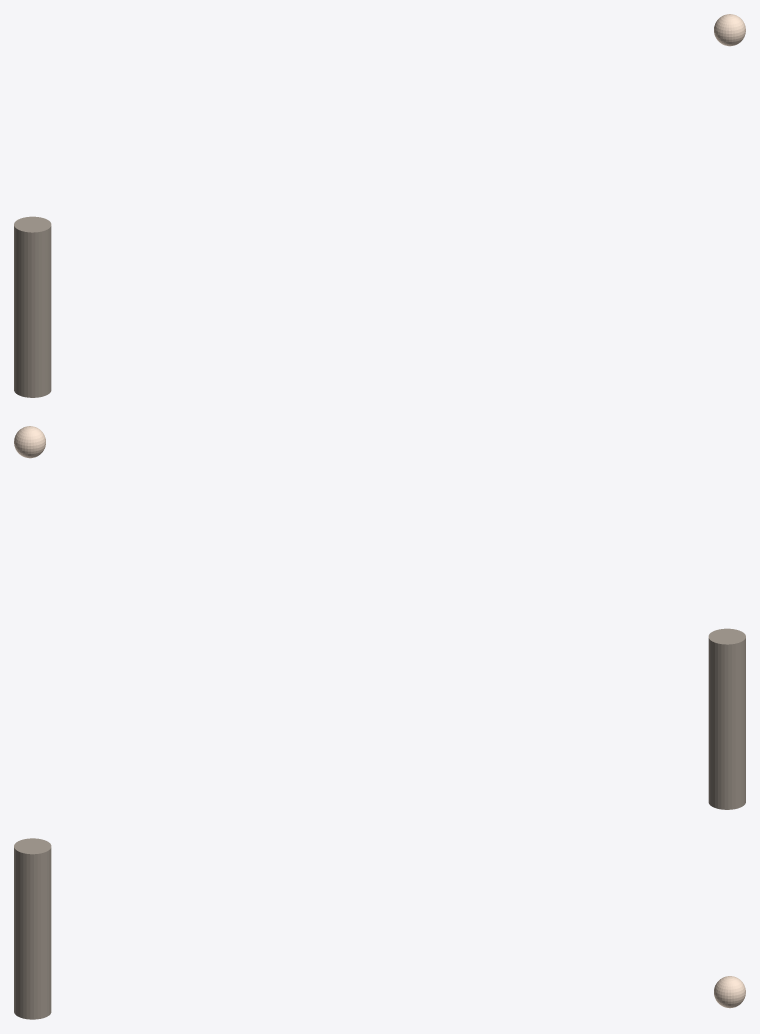
File: CH_Bureaucrat.glb
3 renders of one model, top to bottom at view 1: azimuth 30°, elevation 25°; view 2: azimuth 150°, elevation 25°; view 3: azimuth 330°, elevation 25°, orthographic.
Visible parts, largest first — view 1: CH_Bureaucrat_Body, CH_Bureaucrat_Head; view 2: CH_Bureaucrat_Body, CH_Bureaucrat_Head; view 3: CH_Bureaucrat_Body, CH_Bureaucrat_Head.
Boxes of the visible parts, bbox=[...] form: CH_Bureaucrat_Body: bbox=[14, 216, 51, 397]; CH_Bureaucrat_Head: bbox=[714, 14, 745, 46]; CH_Bureaucrat_Body: bbox=[708, 628, 745, 809]; CH_Bureaucrat_Head: bbox=[14, 426, 45, 458]; CH_Bureaucrat_Body: bbox=[14, 838, 51, 1019]; CH_Bureaucrat_Head: bbox=[714, 976, 745, 1008].
Size of the model in its own units: 15.65 by 4.2 by 0.7.
